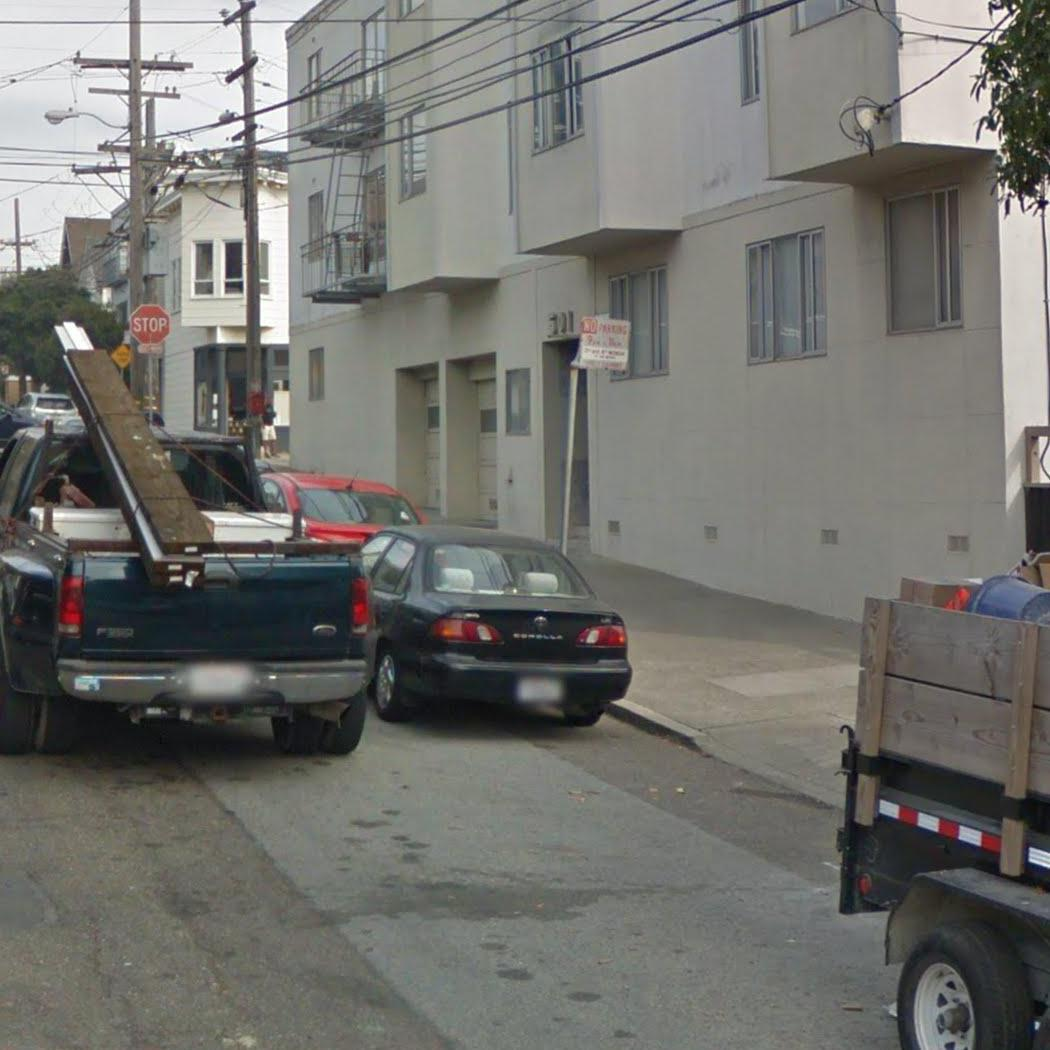No Parking: (577, 313, 634, 374)
